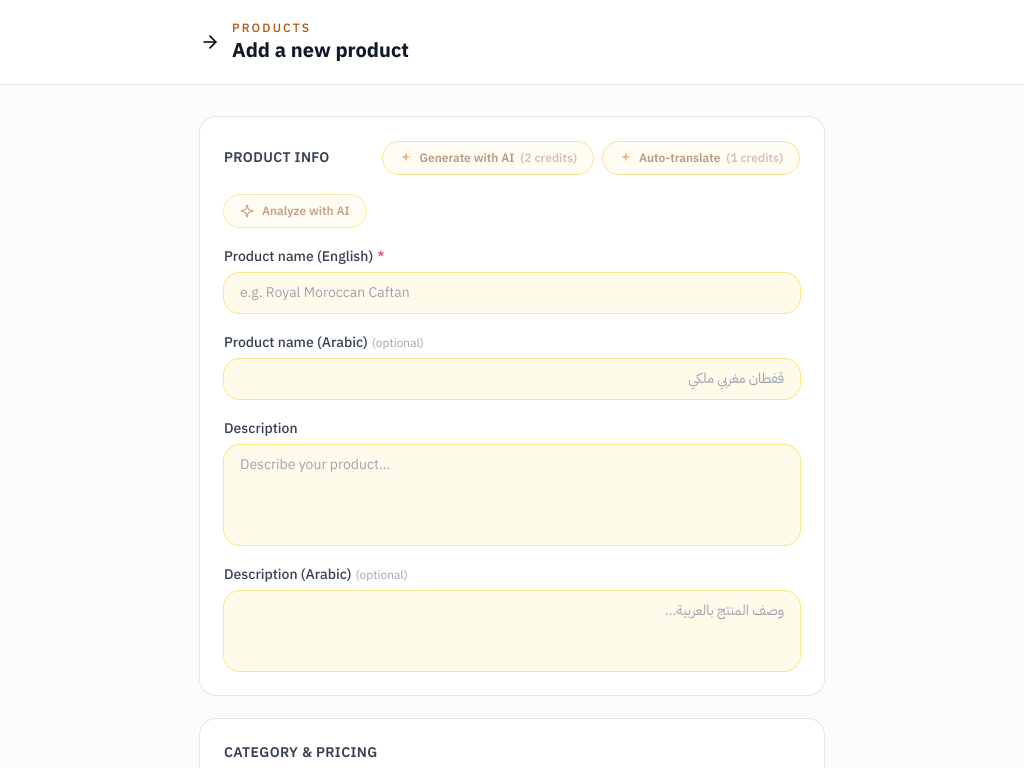
it: SellerNewProductPage — AI features › opens InsufficientCreditsModal on 402 from generateListing
In the field labelled "Product name (English)*": (512, 293) top-left (224, 273), bottom-right (800, 313), type "Caftan"
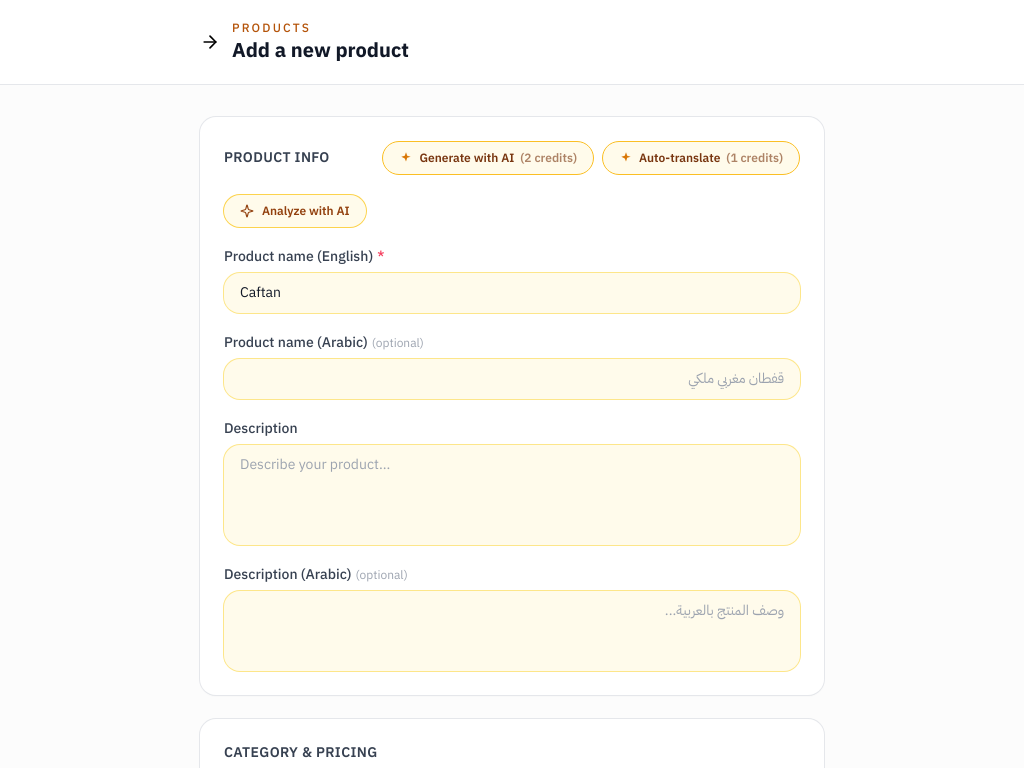
Click the button "Generate with AI (2 credits)": (488, 158) top-left (382, 141), bottom-right (594, 175)
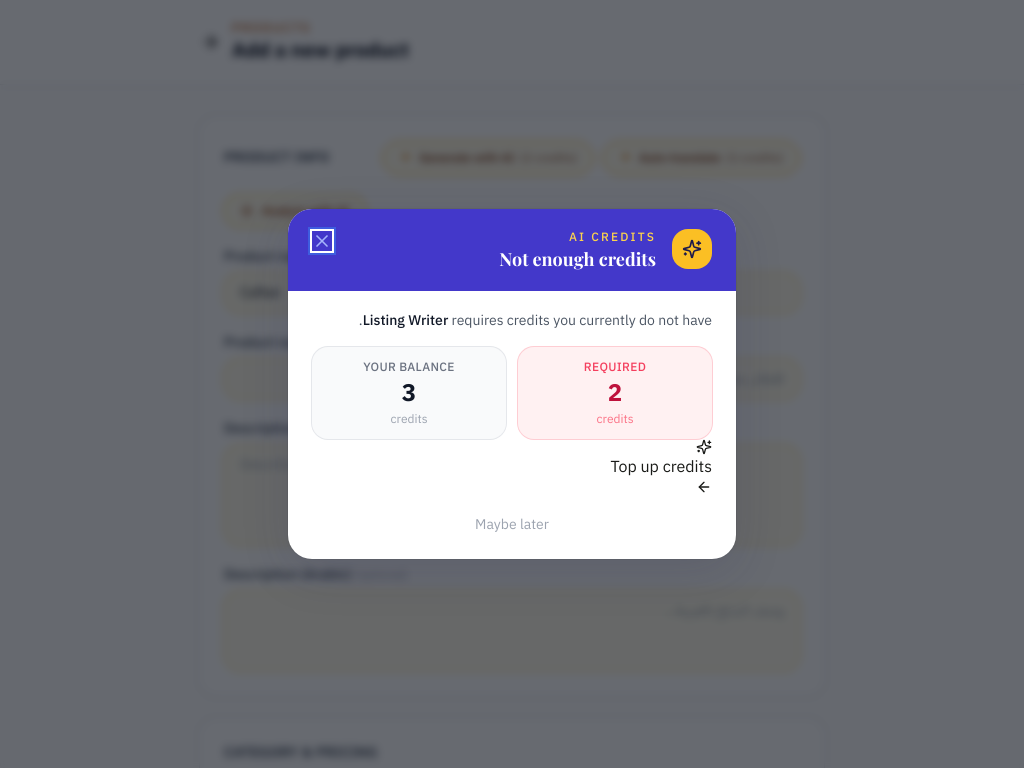
Check: the dialog is shown, box top-left (288, 209), bottom-right (736, 559)
